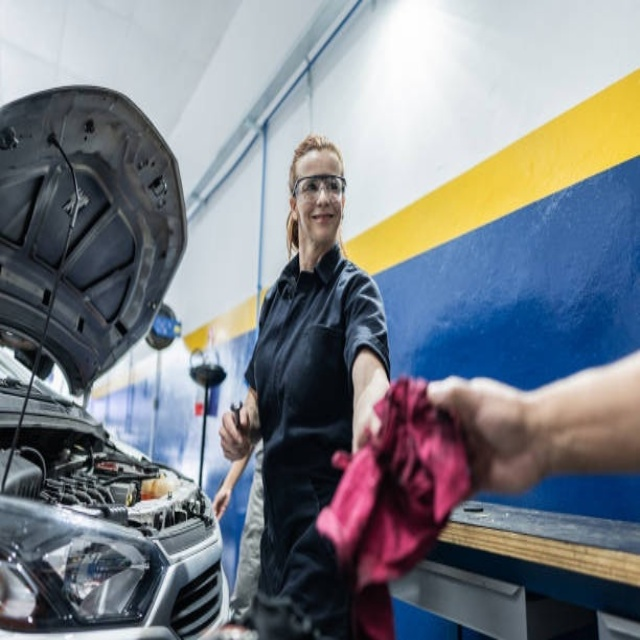Gafas: (293, 174, 347, 200)
Sin_guantes: (417, 372, 540, 498), (218, 404, 253, 462)
Sin_mascara: (305, 205, 336, 233)
